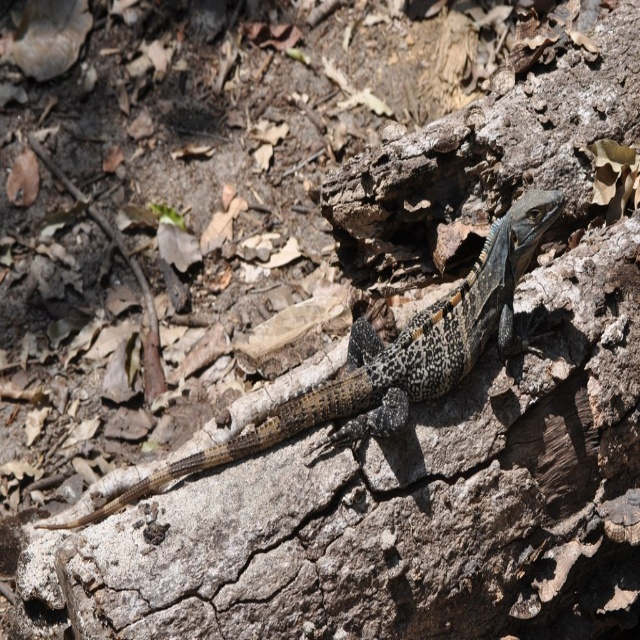Lizard: (78, 200, 576, 578)
